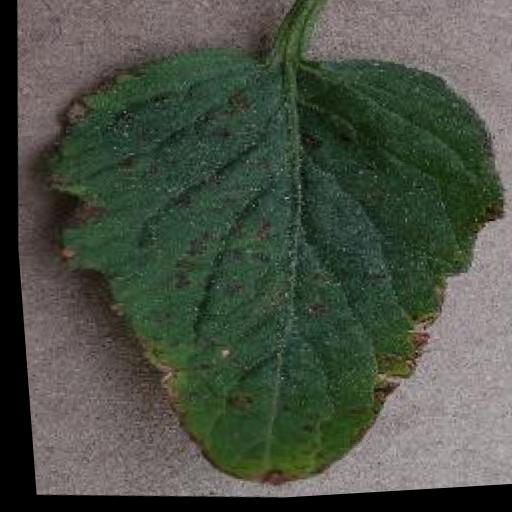Bacterial Spot: (3, 22, 512, 512)
